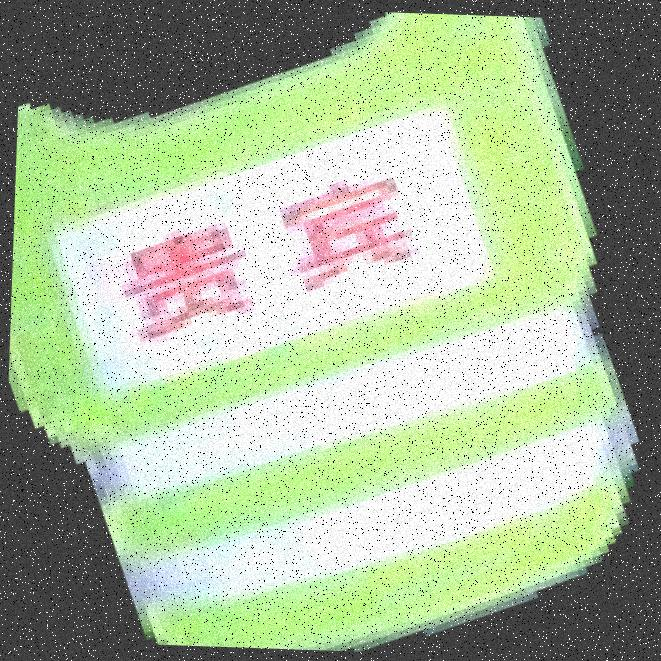Colete: (5, 0, 645, 660)
